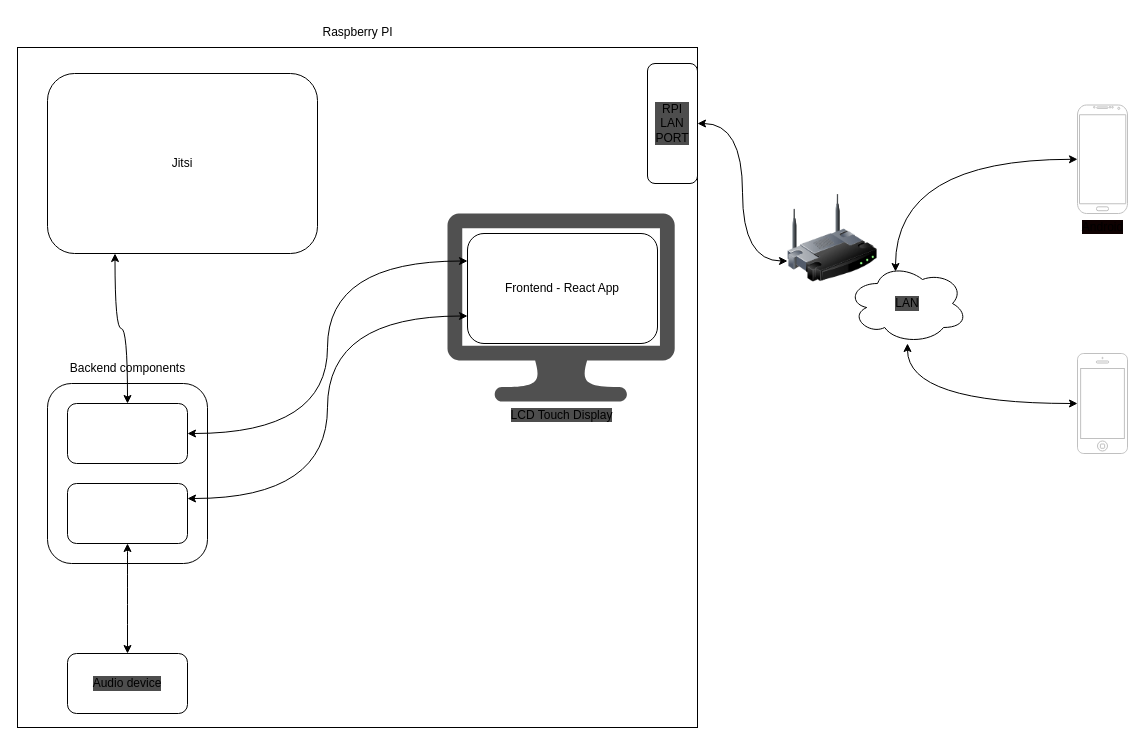
The diagram is 1145 pixels wide and 745 high, and some of its shapes have lost their labels. The centre of each missing label's shape, as x and y in pixels:
"IPhone" goes at point (1102, 403).
"Jupyter for audio recording" goes at point (127, 513).
"Nodejs App" goes at point (127, 433).
